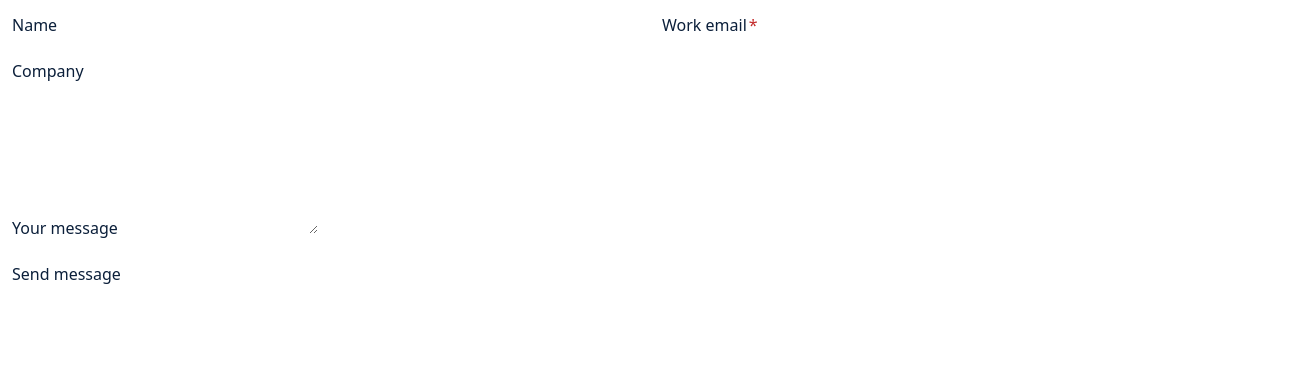
LeadForm › shows a failure and keeps what was typed so it can be sent again
Type "grace@example.com" into the field labelled "Work email*".
click(873, 25); type("grace@example.com")  # box [758, 12, 989, 38]
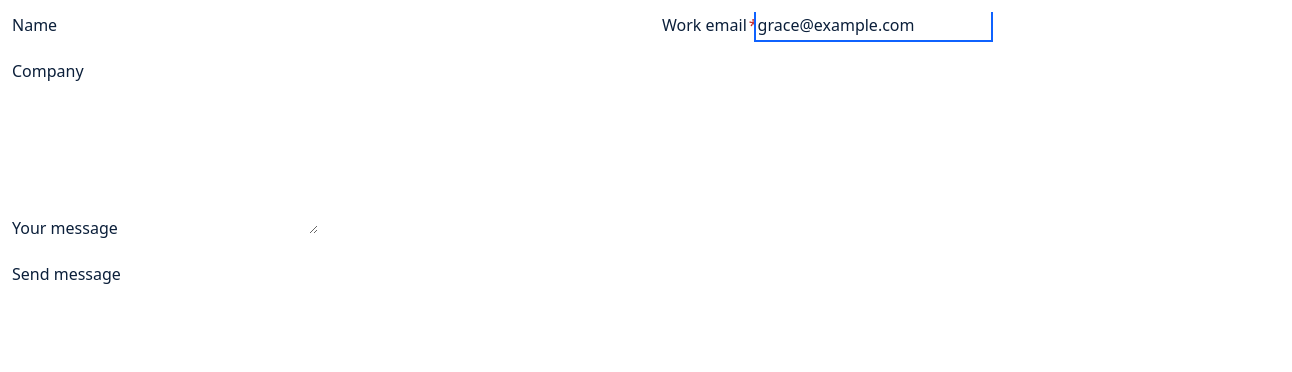
Click the button "Send message".
click(66, 274)  # box [12, 261, 121, 287]
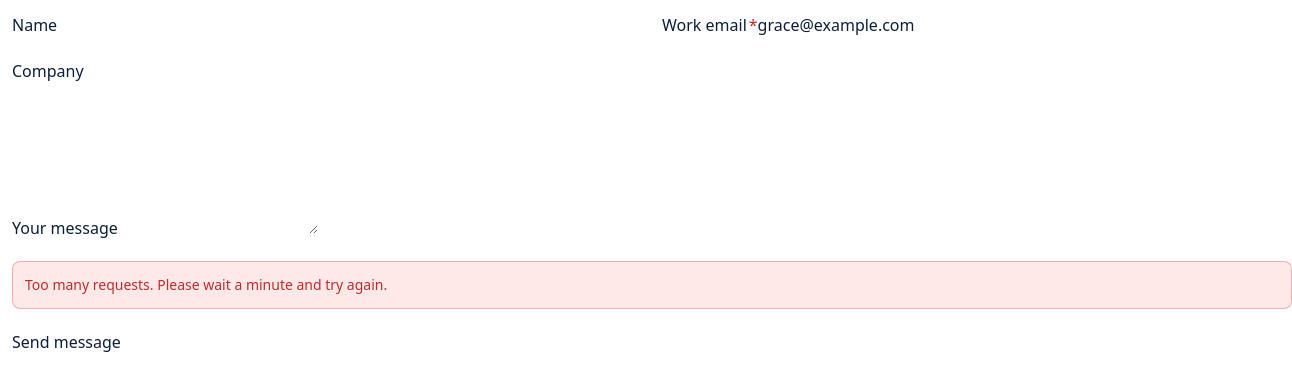
Expected: the message shows "Too many requests", [25, 275, 387, 294]
Click the button "Send message".
click(66, 342)  # box [12, 329, 121, 355]
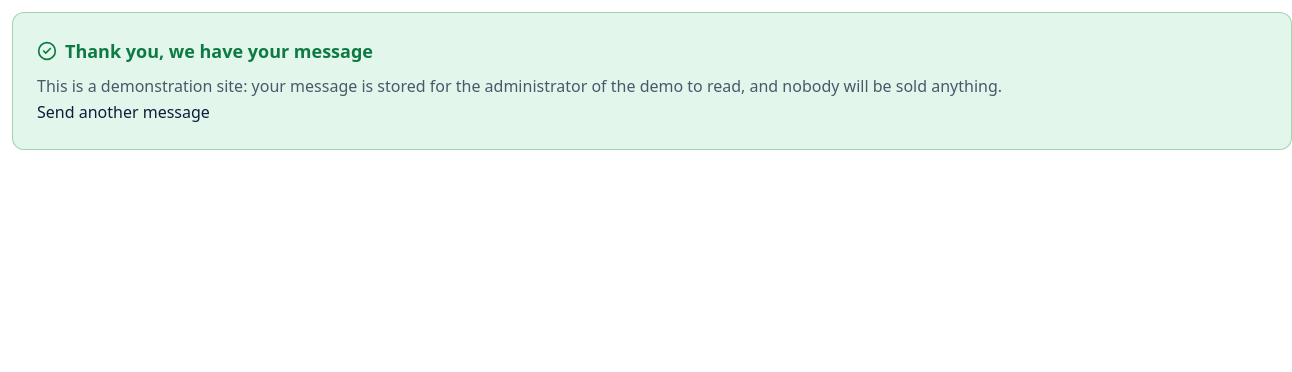
Expected: the message shows "Thank you", [65, 39, 373, 63]
